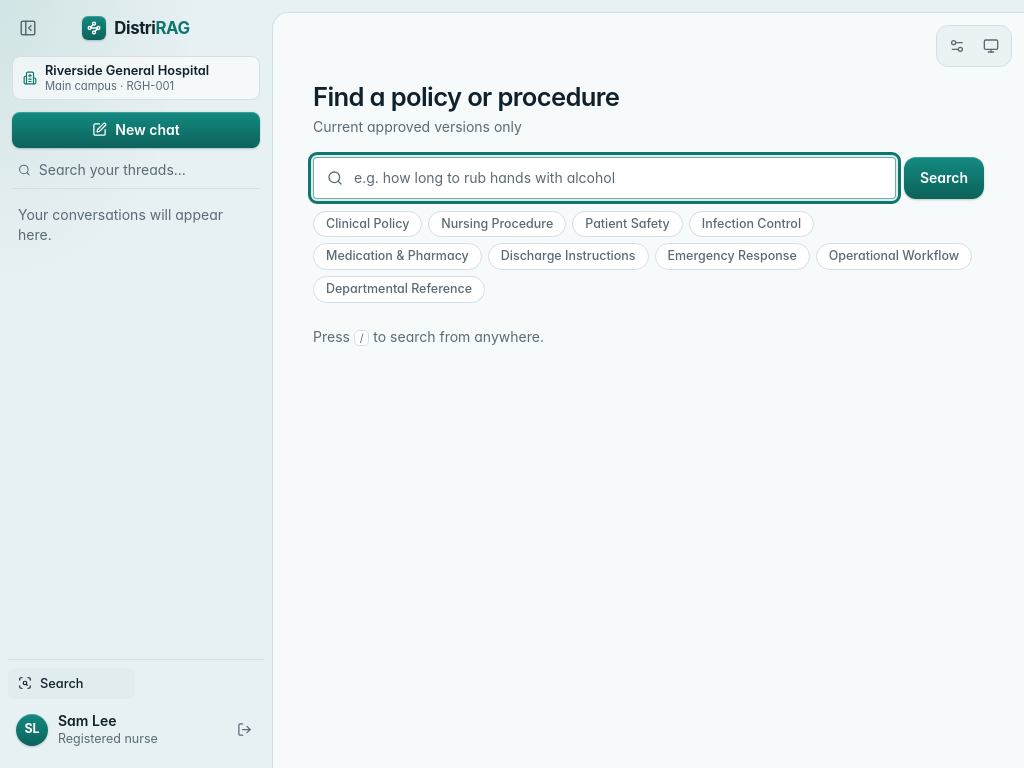
a restored cookie session can log out after a browser reload
The image size is (1024, 768).
Click the button named "Sign out" at (244, 730), box [228,714,260,746]
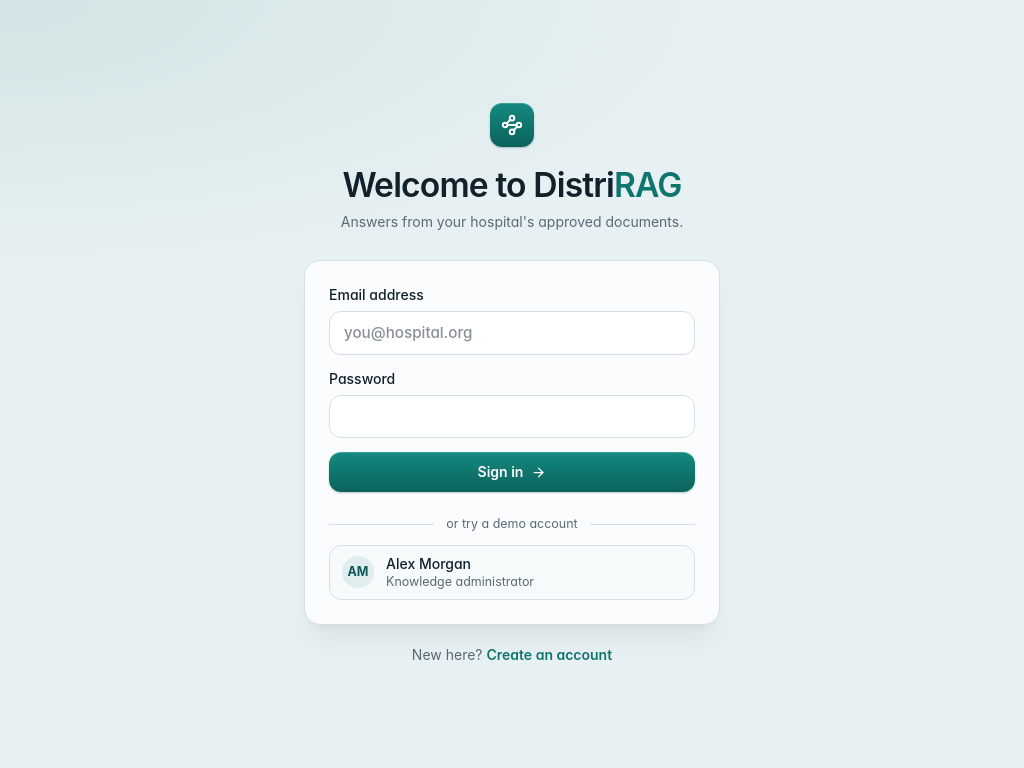
Result: the heading "Welcome to DistriRAG" is shown at [342,163,682,208]
